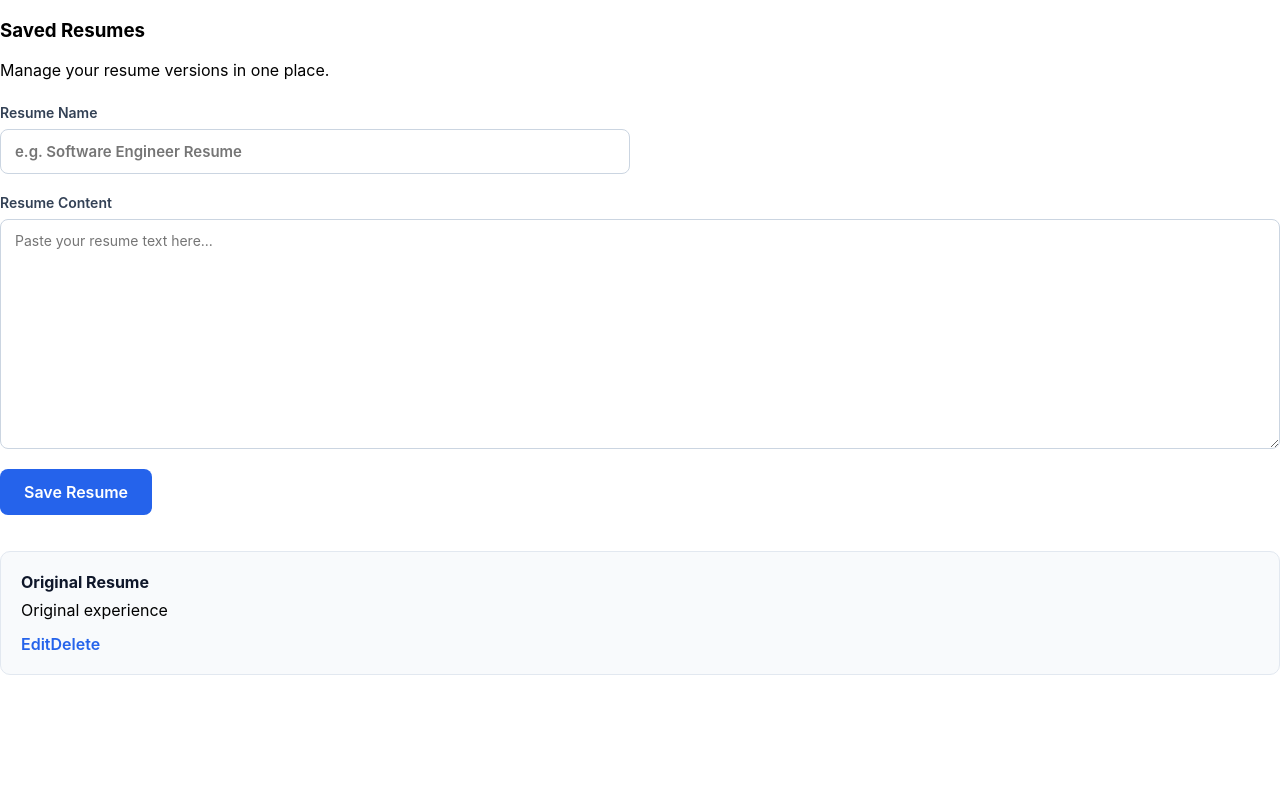
Test case: ResumeLibrary › edits an existing resume
Expected: the heading "Original Resume" is shown, [21,572,149,592]
Click the button "Edit" at (36, 644), box [21,634,50,654]
(page scrolled)
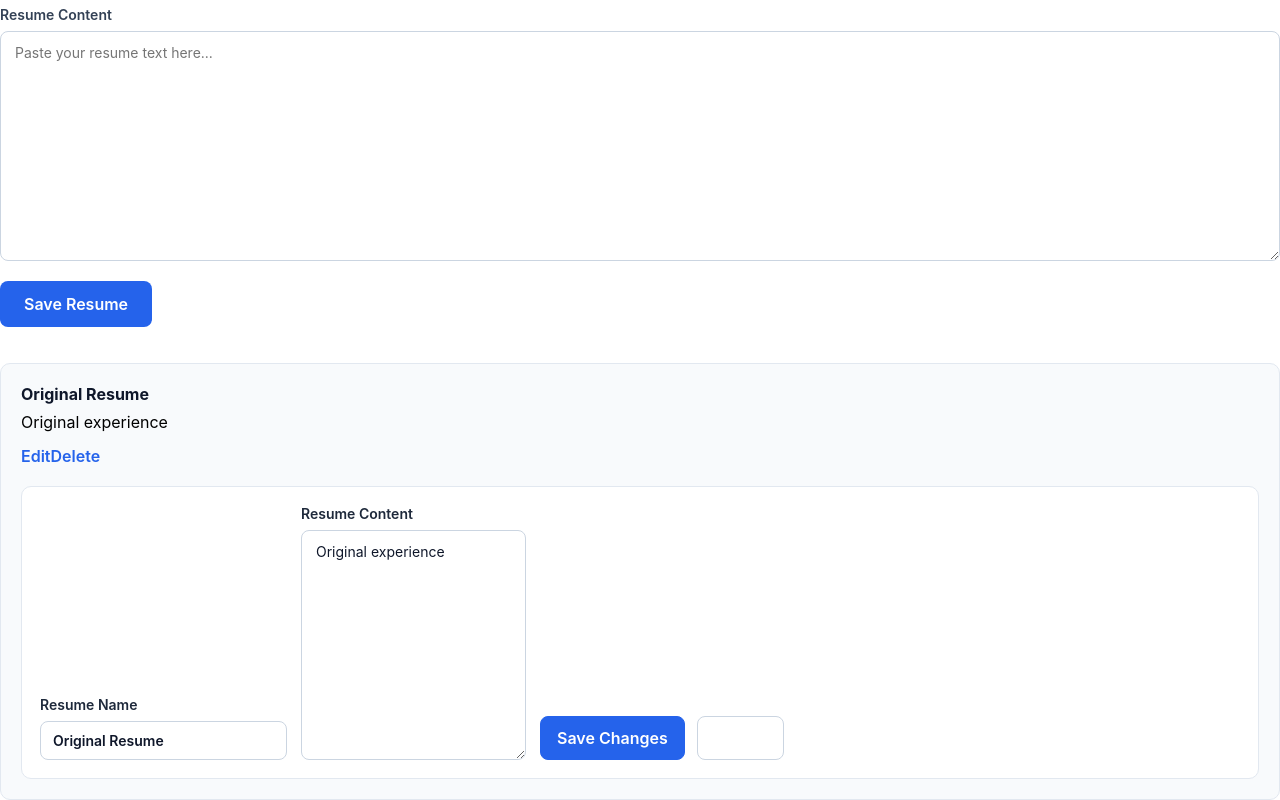
Replace the text in the field labelled "Resume Name" with "Updated Resume" at (164, 741), box [40,721,287,760]
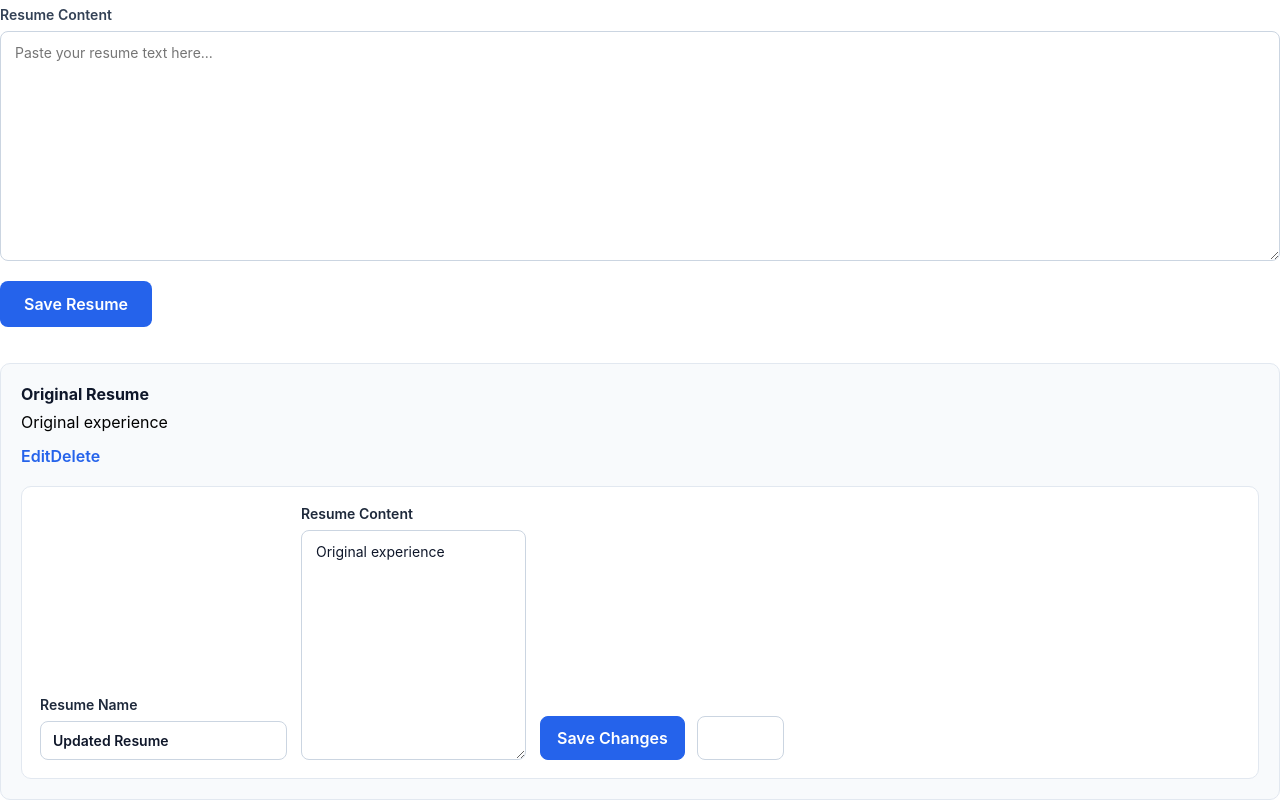
Replace the text in the text box labelled "Resume Content" below "Original experience" with "Updated experience" at (414, 645), box [301,530,526,760]
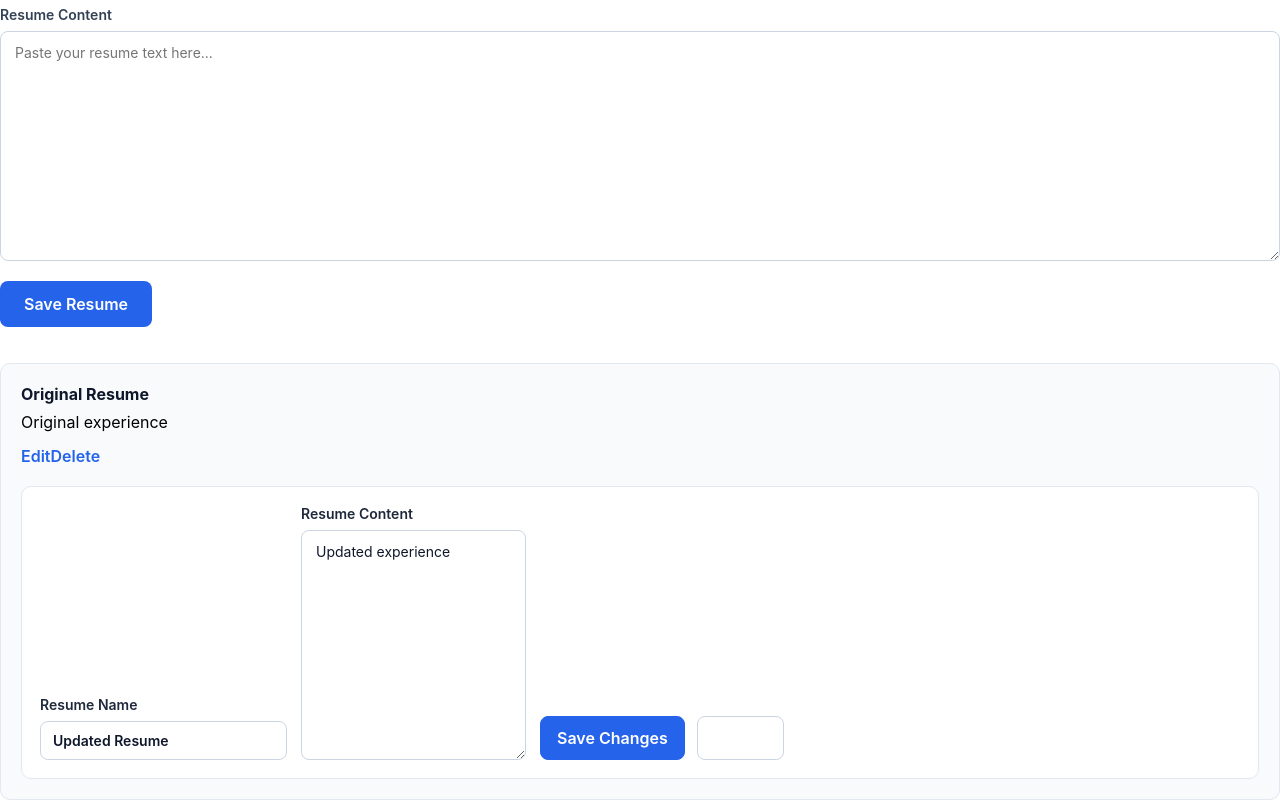
Click the button "Save Changes" at (612, 738), box [540,716,685,760]
(page scrolled)
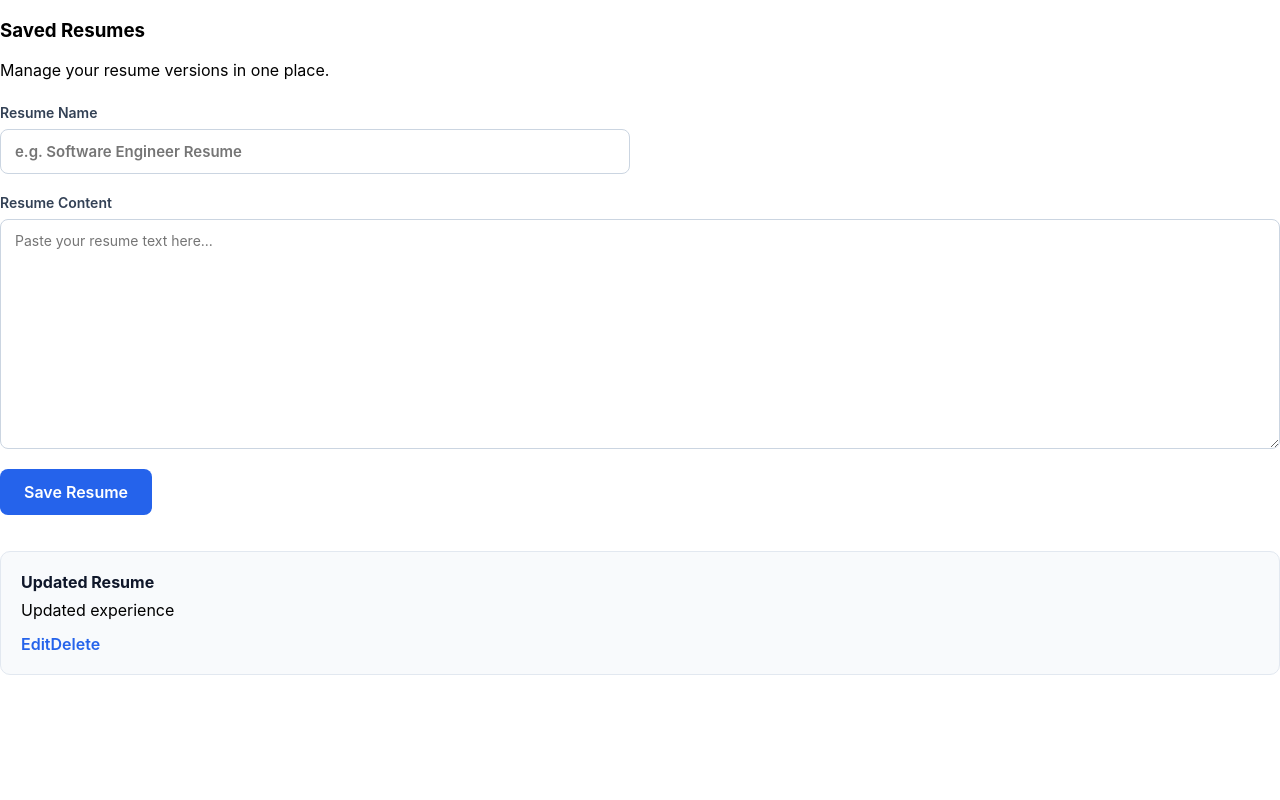
Expected: the heading "Updated Resume" is shown, [21,572,154,592]
Expected: the text "Updated experience" is shown, [21,600,174,620]
